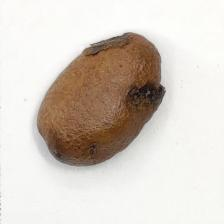NG: (126, 75, 167, 111), (81, 30, 130, 55)
